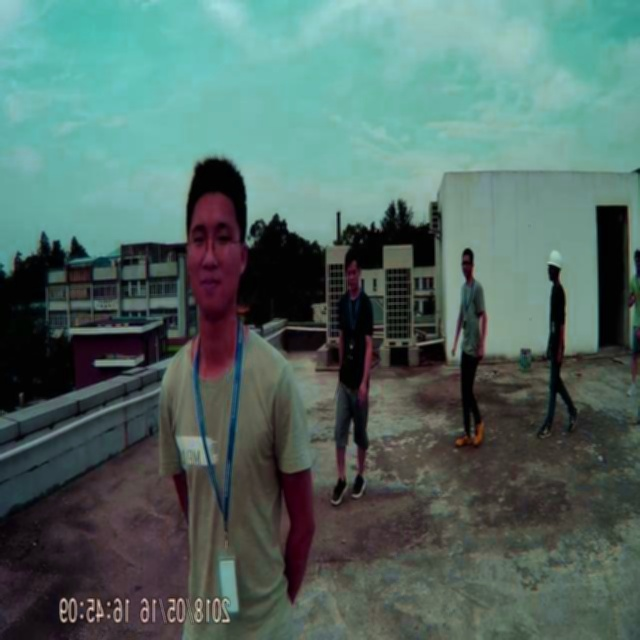Con_Casco: (546, 250, 563, 284)
Sin_Casco_Mascarrilla: (182, 153, 250, 315), (345, 247, 363, 289), (460, 247, 476, 278)
Sin_Chaleco: (157, 332, 311, 586)
